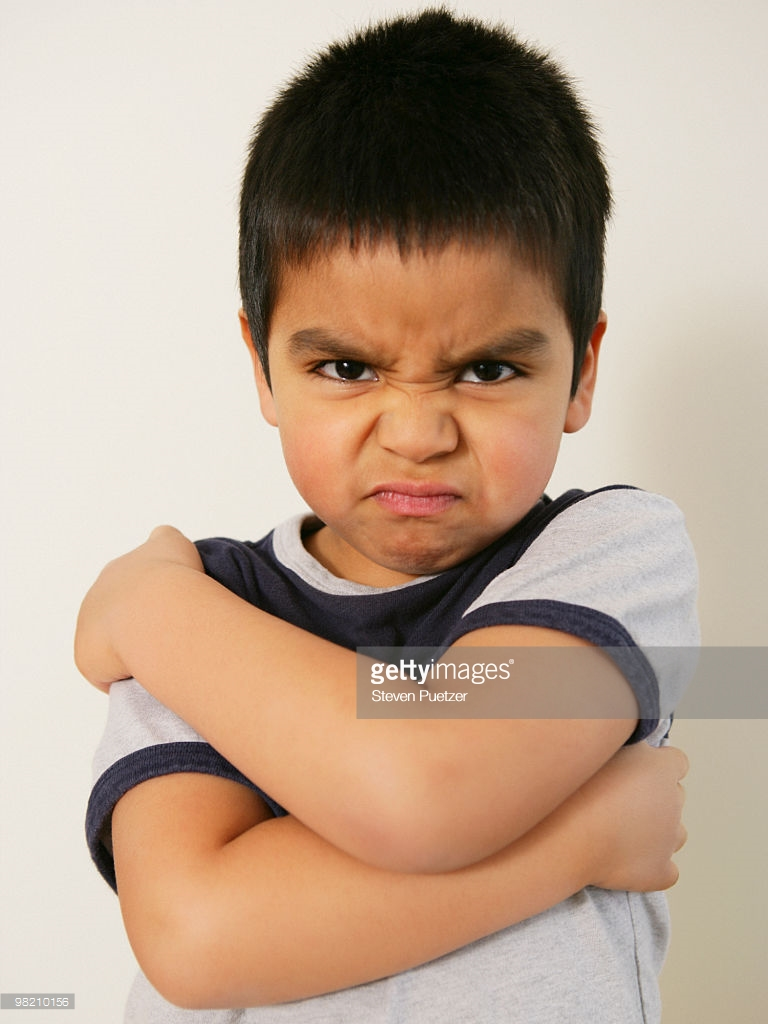angry: (263, 287, 572, 577)
